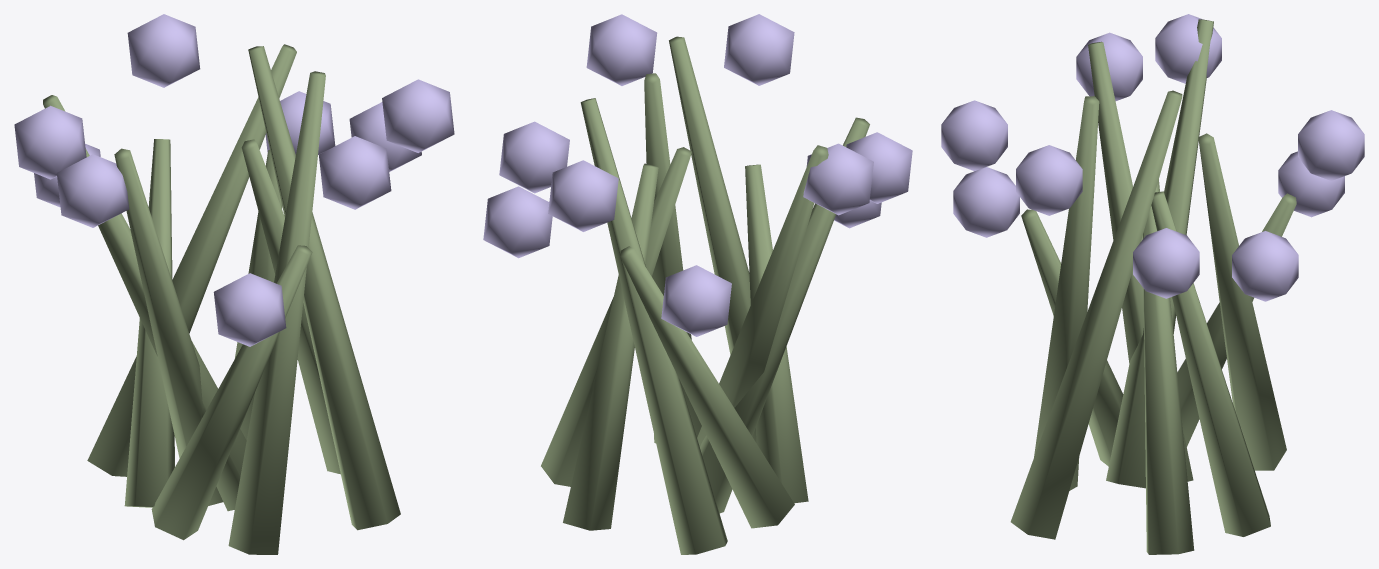
Rendered from hierba_monte.glb.
3 views of the same model, side by side, from view 1: azimuth 30°, elevation 25°; view 2: azimuth 150°, elevation 25°; view 3: azimuth 270°, elevation 25° (orthographic). The views are drawn at different scales.
Visible parts, largest first — view 1: HierbaMonte; view 2: HierbaMonte; view 3: HierbaMonte.
Boxes of the visible parts, <box> form: HierbaMonte: <box>14,14,454,554</box>; HierbaMonte: <box>483,14,912,554</box>; HierbaMonte: <box>941,14,1364,554</box>.
Size of the model in its own units: 0.4159 by 0.4585 by 0.4107.
